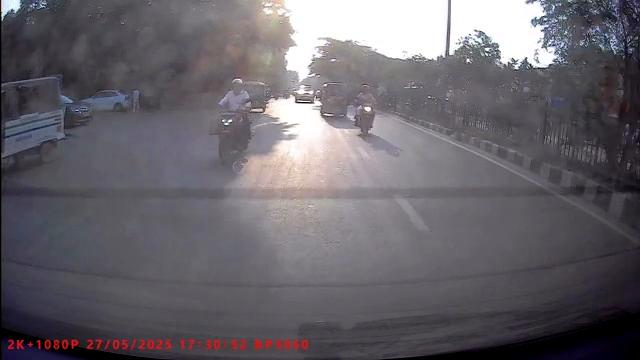motorcycle_with_helmet: (209, 76, 254, 166), (354, 82, 376, 136)
